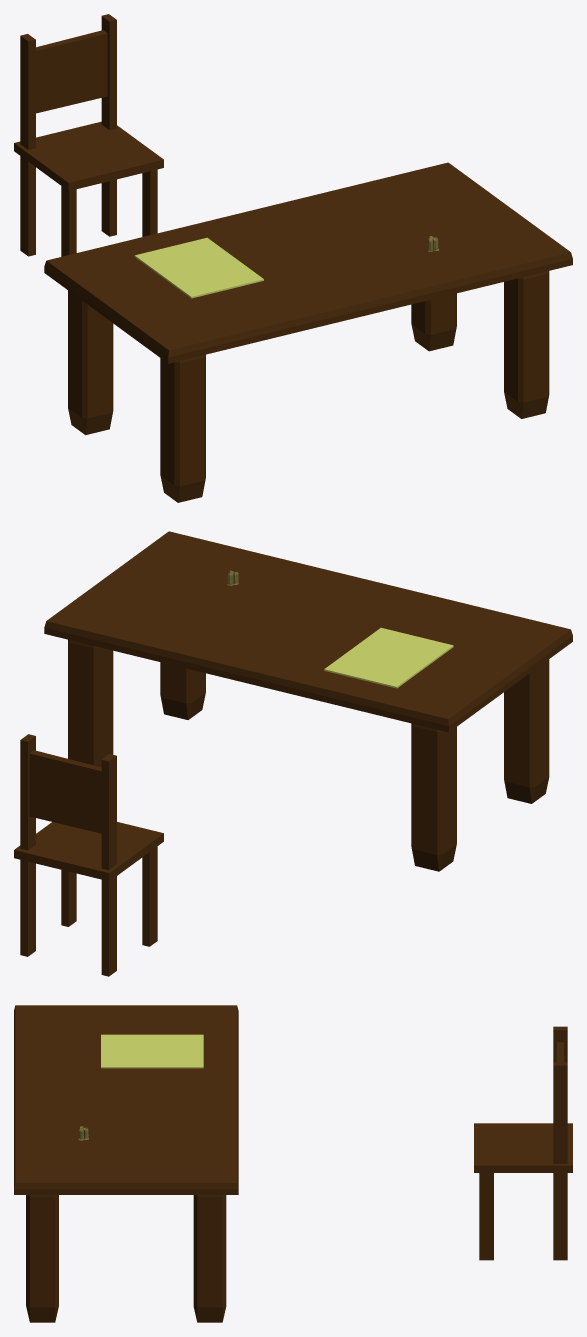
Rendered from Table.fbx.
The picture shows the model from 3 angles, top to bottom: view 1: azimuth 30°, elevation 25°; view 2: azimuth 150°, elevation 25°; view 3: azimuth 270°, elevation 25°; orthographic projection. The views are drawn at different scales.
Visible parts, largest first — view 1: Table; view 2: Table; view 3: Table.
Part boxes in pixels (x1,y1,x2,y2): Table: (14,14,572,502); Table: (14,531,572,976); Table: (14,1005,572,1322).
Size of the model in its own units: 195 by 99.49 by 258.
